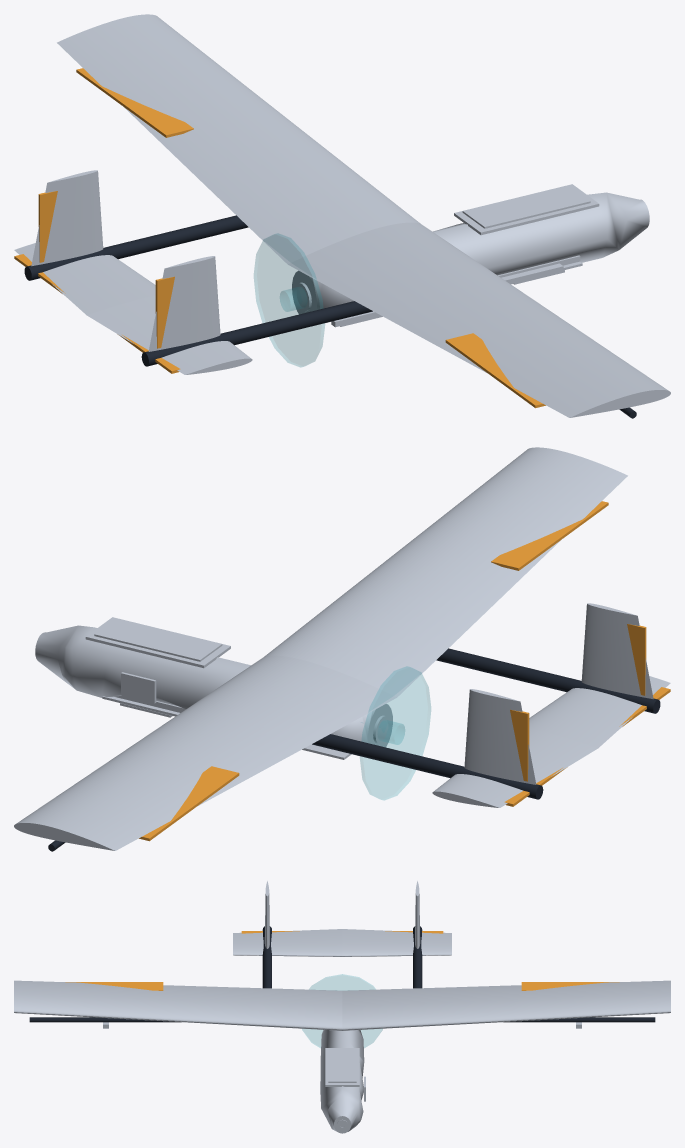
The model's file is esco-uav.glb.
3 views of the same model, one above another, from view 1: azimuth 30°, elevation 25°; view 2: azimuth 150°, elevation 25°; view 3: azimuth 270°, elevation 25° (orthographic). The views are drawn at different scales.
Parts seen in each view (by area): view 1: wing_starboard, wing_port, pod, prop_disk_zone, vtail_starboard, vtail_port, htail_starboard, htail_port, boom_port, boom_starboard, hatch_cover, aileron_starboard (+6 smaller); view 2: wing_port, wing_starboard, pod, prop_disk_zone, vtail_port, vtail_starboard, htail_port, htail_starboard, boom_starboard, boom_port, hatch_cover, aileron_port (+6 smaller); view 3: wing_starboard, wing_port, pod, htail_starboard, htail_port, main_spar, prop_disk_zone, hatch_cover, boom_port, boom_starboard, aileron_port, aileron_starboard (+1 smaller).
Boxes of the visible parts, x1=… form: wing_starboard: x1=57, y1=14, x2=420, y2=264; wing_port: x1=288, y1=222, x2=670, y2=417; pod: x1=292, y1=192, x2=649, y2=314; prop_disk_zone: x1=254, y1=233, x2=324, y2=367; vtail_starboard: x1=31, y1=170, x2=103, y2=266; vtail_port: x1=148, y1=256, x2=220, y2=351; htail_starboard: x1=14, y1=243, x2=155, y2=315; htail_port: x1=87, y1=296, x2=252, y2=374; boom_port: x1=141, y1=301, x2=372, y2=366; boom_starboard: x1=24, y1=215, x2=248, y2=280; hatch_cover: x1=462, y1=185, x2=590, y2=228; aileron_starboard: x1=76, y1=68, x2=193, y2=137; wing_port: x1=264, y1=447, x2=627, y2=697; wing_starboard: x1=14, y1=655, x2=396, y2=850; pod: x1=35, y1=625, x2=392, y2=747; prop_disk_zone: x1=360, y1=666, x2=430, y2=800; vtail_port: x1=581, y1=603, x2=653, y2=699; vtail_starboard: x1=464, y1=689, x2=536, y2=784; htail_port: x1=529, y1=676, x2=670, y2=748; htail_starboard: x1=432, y1=729, x2=597, y2=807; boom_starboard: x1=312, y1=734, x2=543, y2=799; boom_port: x1=436, y1=648, x2=660, y2=713; hatch_cover: x1=94, y1=618, x2=222, y2=661; aileron_port: x1=491, y1=501, x2=608, y2=570; wing_starboard: x1=342, y1=980, x2=670, y2=1030; wing_port: x1=14, y1=980, x2=342, y2=1030; pod: x1=320, y1=1030, x2=364, y2=1133; htail_starboard: x1=342, y1=929, x2=451, y2=956; htail_port: x1=233, y1=929, x2=342, y2=956; main_spar: x1=29, y1=1017, x2=655, y2=1022; prop_disk_zone: x1=302, y1=974, x2=382, y2=1047; hatch_cover: x1=328, y1=1048, x2=356, y2=1082; boom_port: x1=262, y1=926, x2=271, y2=988; boom_starboard: x1=413, y1=926, x2=422, y2=988; aileron_port: x1=65, y1=982, x2=163, y2=990; aileron_starboard: x1=521, y1=982, x2=619, y2=990.
Bounding box in the file's own units: 1317 × 410 × 2100.
